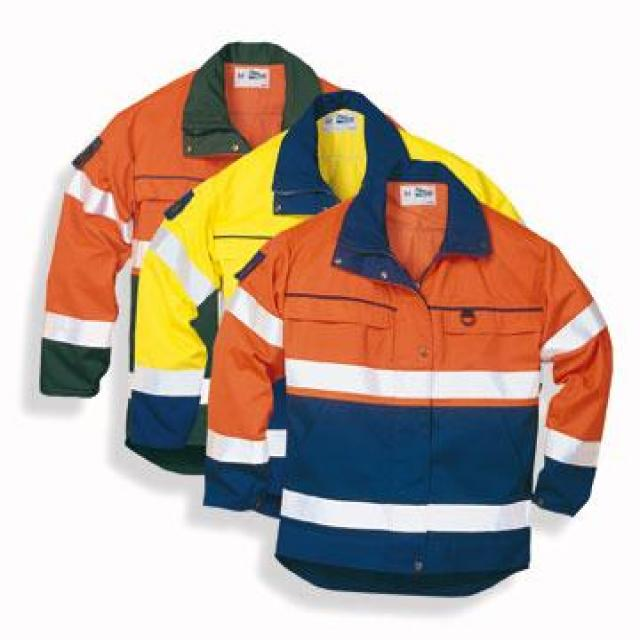Reflective-Jacket: (169, 86, 640, 617)
